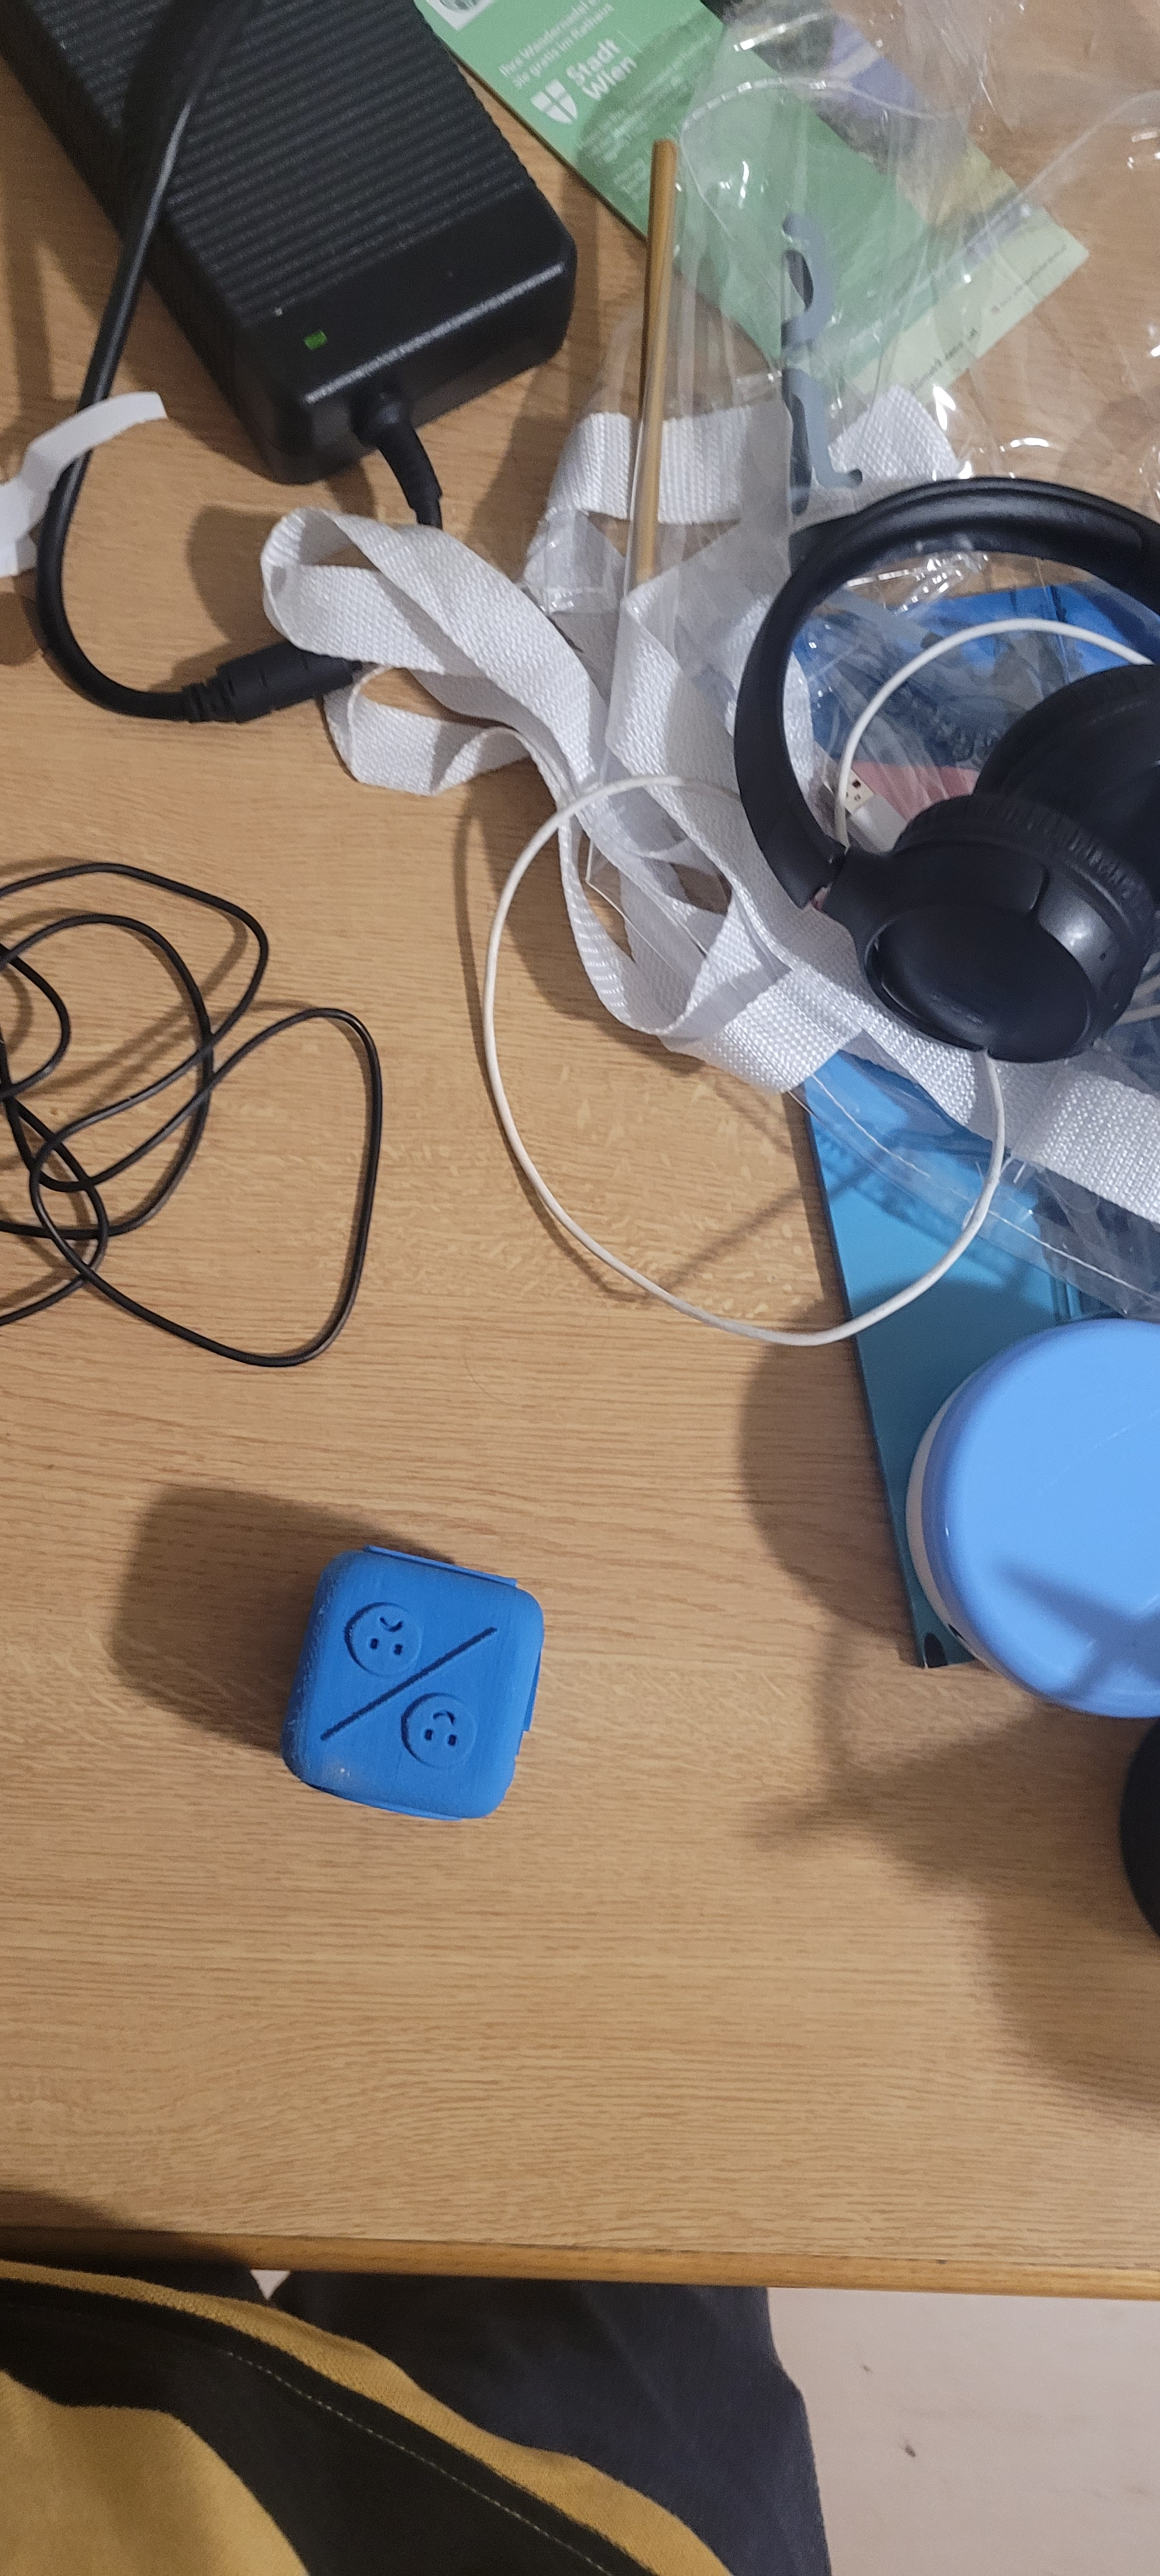Like/Dislike: (320, 1520, 559, 1817)
